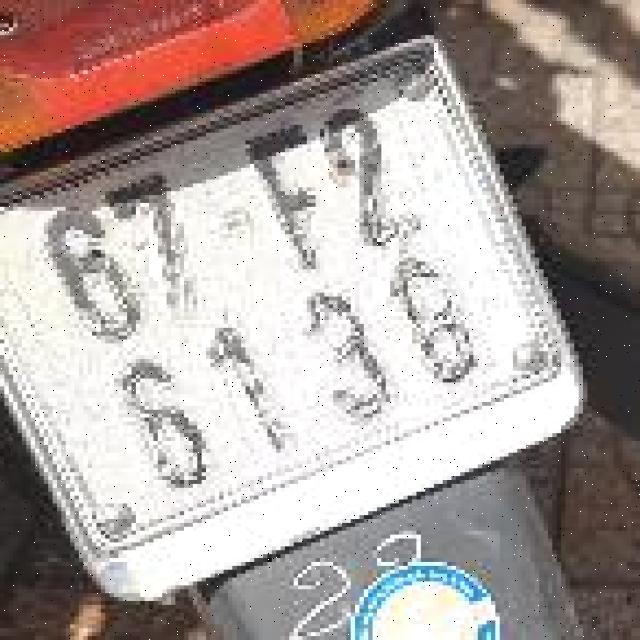1: (178, 310, 311, 480)
2: (310, 76, 443, 258)
3: (287, 275, 423, 457)
6: (98, 340, 243, 519), (27, 183, 162, 365)
7: (96, 154, 239, 342)
8: (381, 247, 504, 411)
F: (230, 105, 357, 288)
